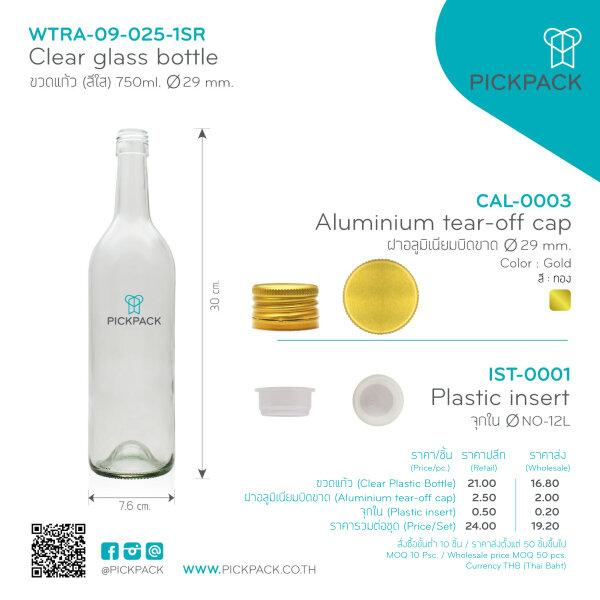glass_bottle: (83, 127, 179, 484)
